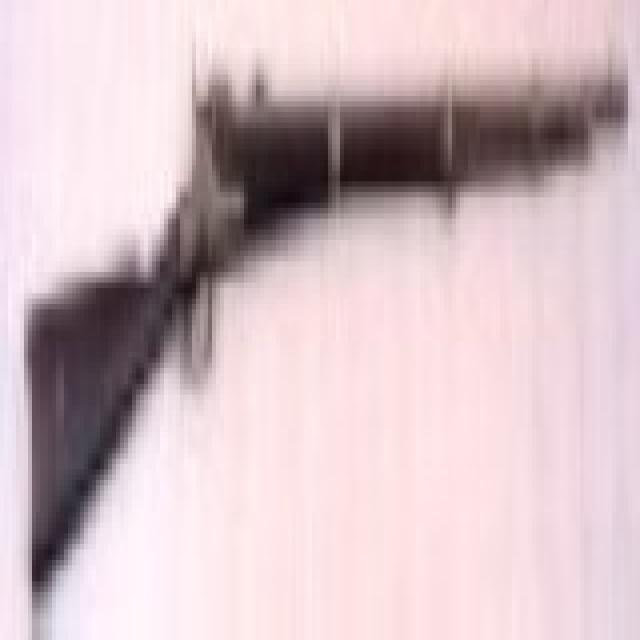Gun: (10, 27, 640, 596)
